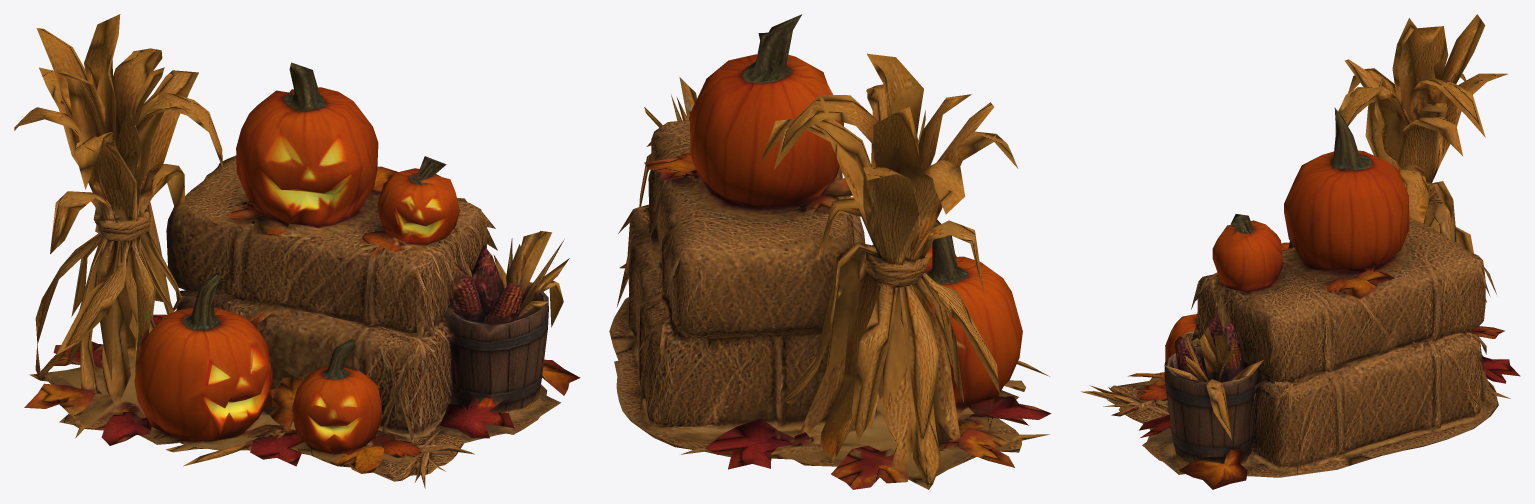
The model's file is tripo_convert_e24db562-efad-4eea-898c-23e1a123c182.fbx.
The picture shows the model from 3 angles, left to right: view 1: azimuth 30°, elevation 25°; view 2: azimuth 150°, elevation 25°; view 3: azimuth 270°, elevation 25°; orthographic projection. The views are drawn at different scales.
Parts seen in each view (by area): view 1: tripo_node_e24db562; view 2: tripo_node_e24db562; view 3: tripo_node_e24db562.
Part boxes in pixels (x1,y1,x2,y2): tripo_node_e24db562: (14, 14, 580, 488); tripo_node_e24db562: (609, 14, 1051, 489); tripo_node_e24db562: (1081, 14, 1520, 489).
Size of the model in its own units: 0.9633 by 0.7328 by 0.9138.
